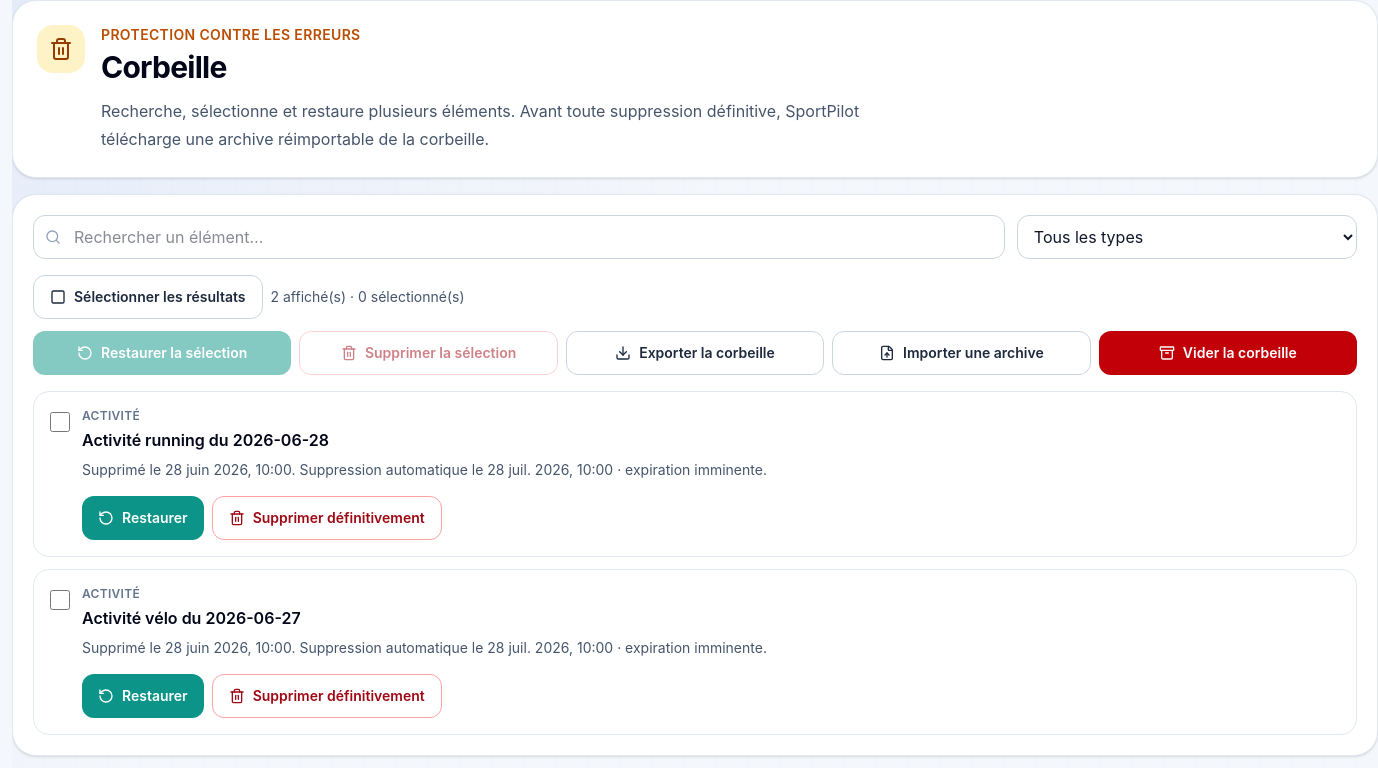
Test: TrashPage › réinitialise uniquement la recherche et le type sans perdre la sélection
Click the button "Sélectionner les résultats": {"x": 148, "y": 297} [33, 275, 262, 319]
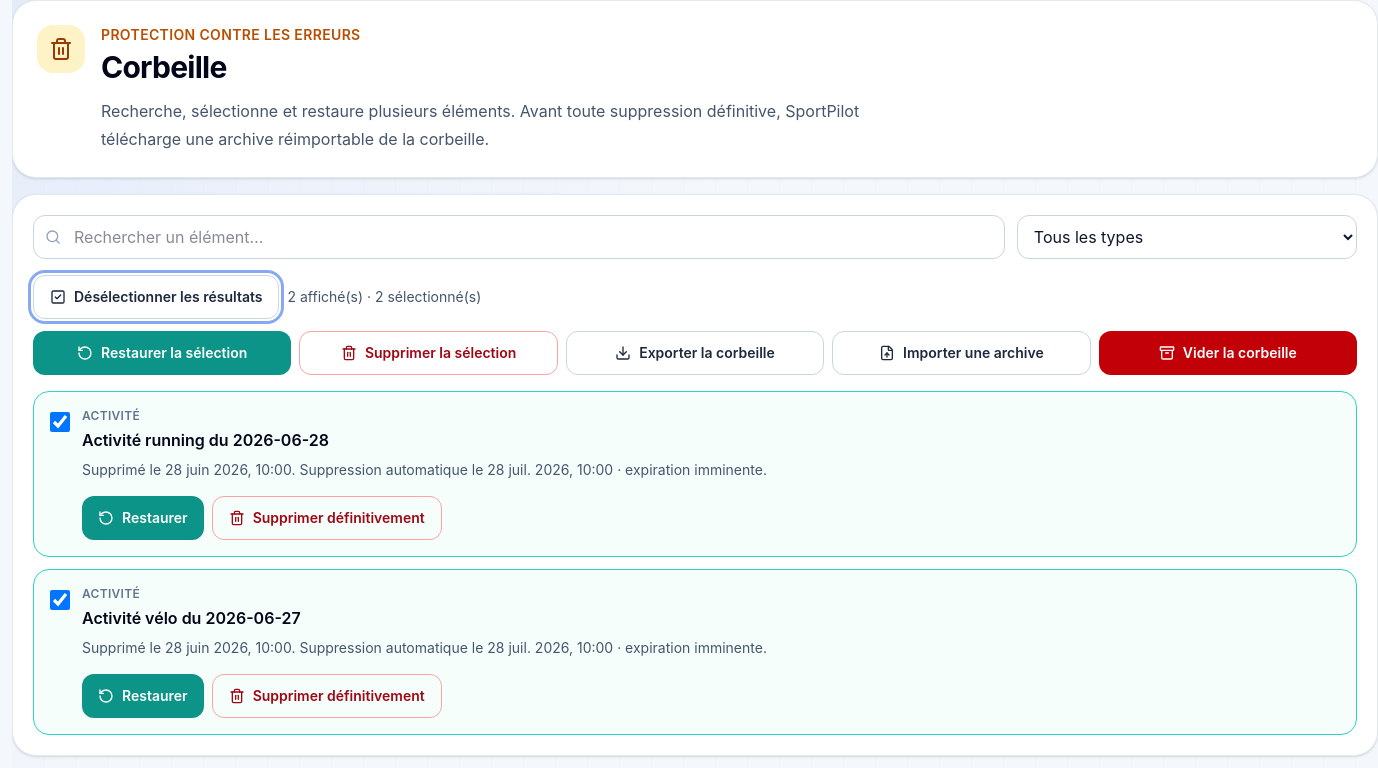
In the search field named "Rechercher dans la corbeille": {"x": 519, "y": 237} [33, 215, 1005, 259], type "introuvable"
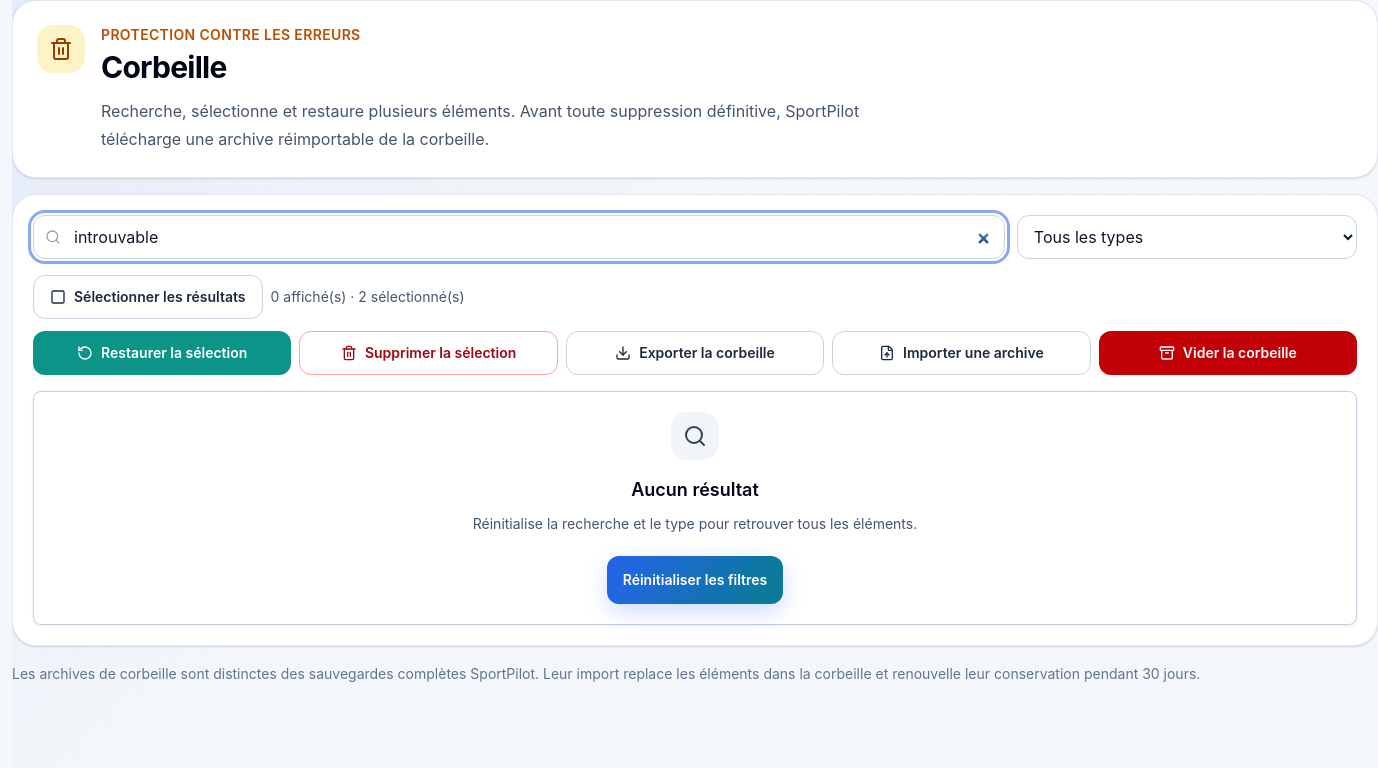
Select "Activité" in the dropdown named "Filtrer par type": {"x": 1187, "y": 237} [1017, 215, 1357, 259]
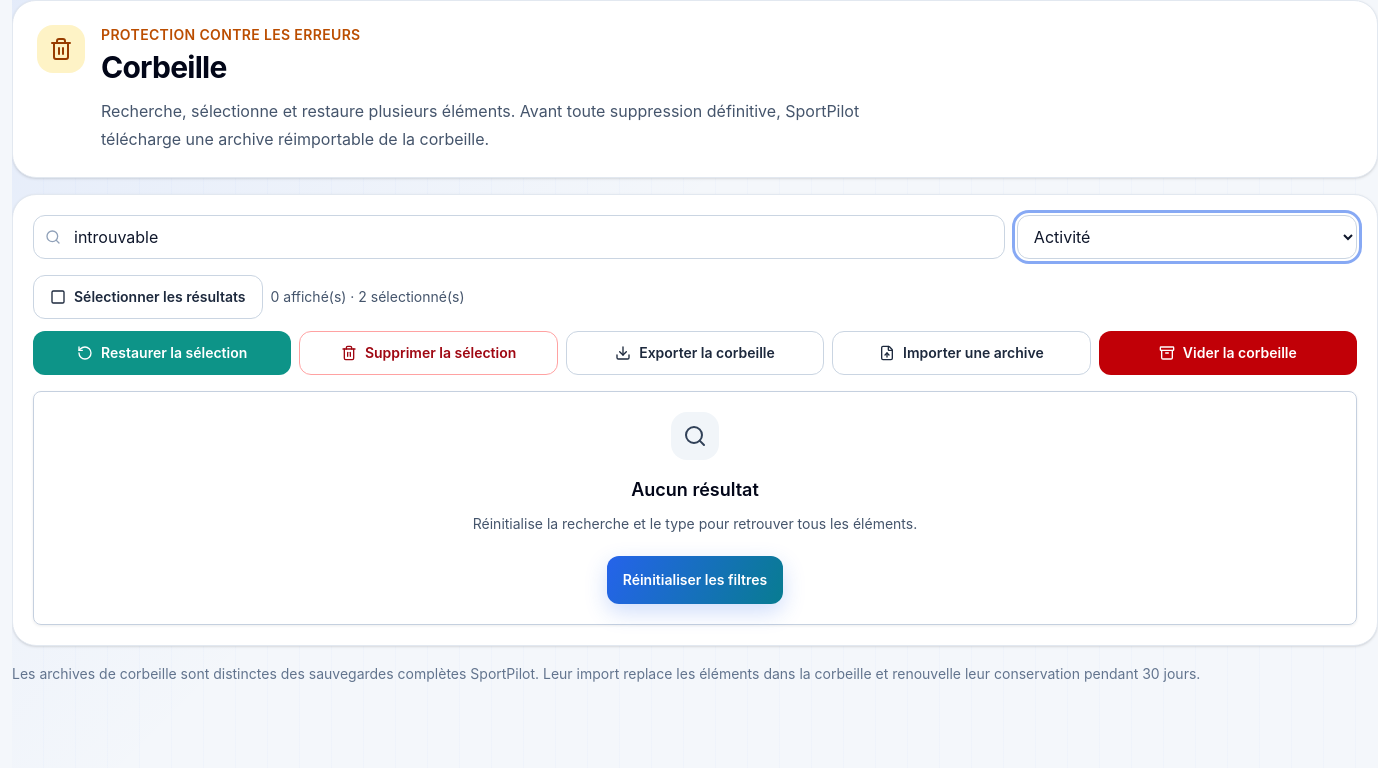
Click the button "Réinitialiser les filtres": {"x": 695, "y": 580} [607, 556, 783, 604]
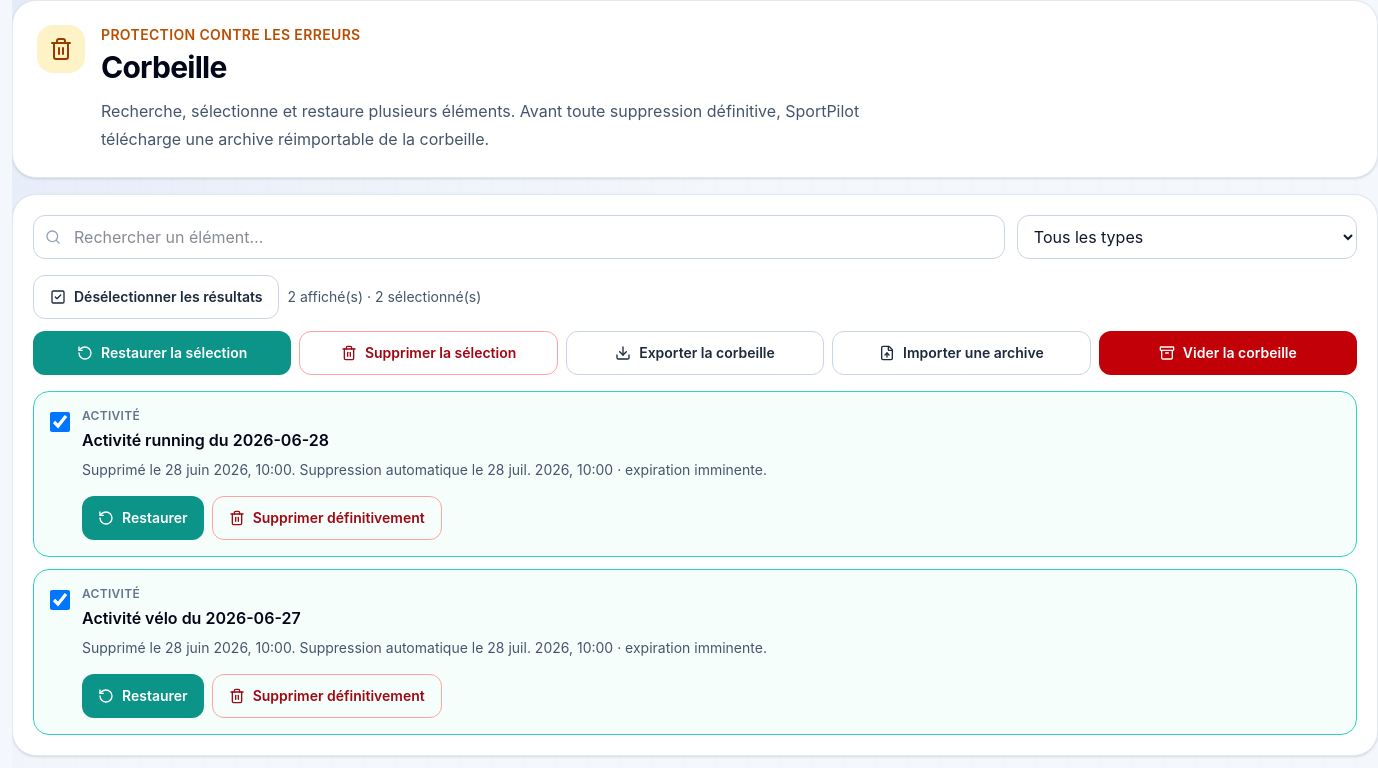
Expected: the search field named "Rechercher dans la corbeille" is empty, [33, 215, 1005, 259]
Expected: the heading "Activité running du 2026-06-28" is shown, [82, 430, 329, 450]
Expected: the heading "Activité vélo du 2026-06-27" is shown, [82, 608, 301, 628]
